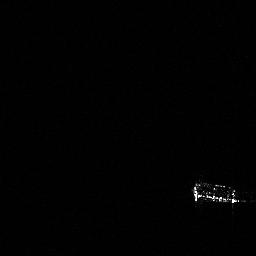ship: (187, 177, 245, 206)
